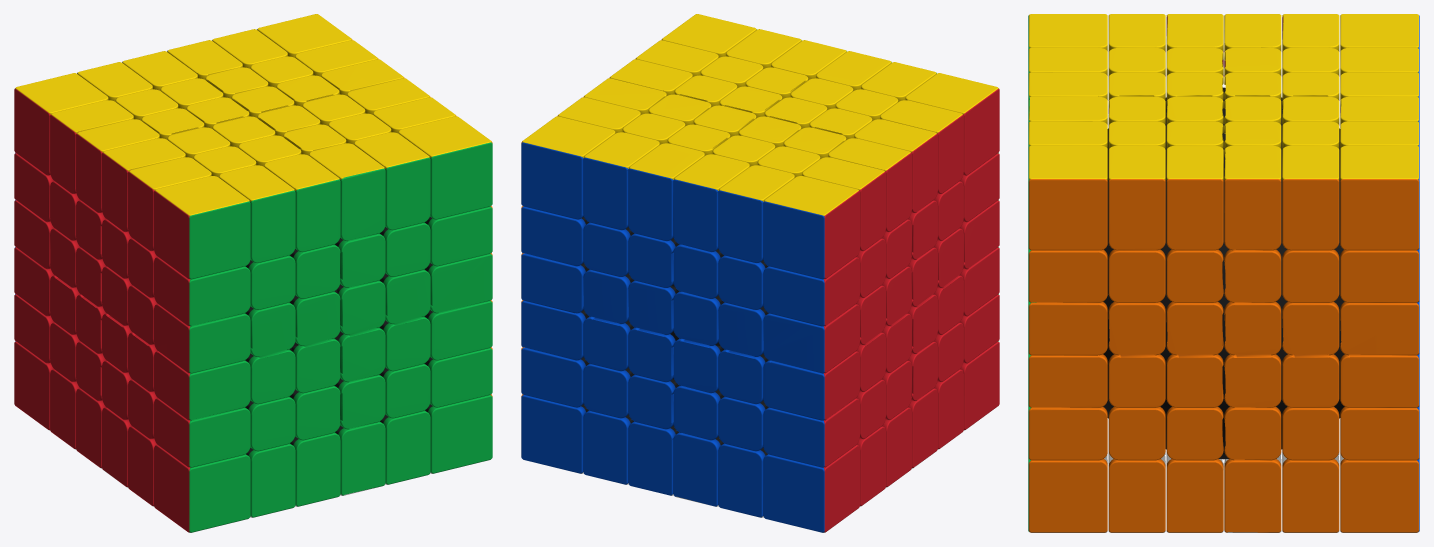
3 views of the same model, side by side, from view 1: azimuth 30°, elevation 25°; view 2: azimuth 150°, elevation 25°; view 3: azimuth 270°, elevation 25° (orthographic). The views are drawn at different scales.
Parts seen in each view (by area): view 1: piece_-2.5,2.5,2.5, piece_-2.5,-2.5,2.5, piece_2.5,2.5,2.5, piece_-2.5,-1.5,2.5, piece_-2.5,0.5,2.5, piece_-2.5,-0.5,2.5, piece_-2.5,1.5,2.5, piece_-0.5,2.5,2.5, piece_-2.5,2.5,-2.5, piece_-1.5,2.5,2.5, piece_1.5,2.5,2.5, piece_0.5,2.5,2.5 (+79 smaller); view 2: piece_-2.5,2.5,-2.5, piece_-2.5,-2.5,-2.5, piece_2.5,2.5,-2.5, piece_-2.5,-0.5,-2.5, piece_-2.5,-1.5,-2.5, piece_-2.5,1.5,-2.5, piece_-2.5,0.5,-2.5, piece_-1.5,2.5,-2.5, piece_-2.5,2.5,2.5, piece_0.5,2.5,-2.5, piece_1.5,2.5,-2.5, piece_-0.5,2.5,-2.5 (+79 smaller); view 3: piece_2.5,2.5,-2.5, piece_2.5,2.5,2.5, piece_2.5,2.5,-1.5, piece_2.5,2.5,1.5, piece_2.5,2.5,0.5, piece_2.5,2.5,-0.5, piece_2.5,-2.5,2.5, piece_2.5,-2.5,-2.5, interior_occlusion, piece_2.5,-1.5,2.5, piece_2.5,0.5,2.5, piece_2.5,-2.5,-0.5 (+55 smaller).
Boxes of the visible parts, left/top/right/bottom form: piece_-2.5,2.5,2.5: left=154, top=176, right=250, bottom=279; piece_-2.5,-2.5,2.5: left=154, top=445, right=250, bottom=532; piece_2.5,2.5,2.5: left=398, top=116, right=492, bottom=219; piece_-2.5,-1.5,2.5: left=154, top=398, right=250, bottom=467; piece_-2.5,0.5,2.5: left=154, top=304, right=250, bottom=373; piece_-2.5,-0.5,2.5: left=154, top=351, right=250, bottom=420; piece_-2.5,1.5,2.5: left=154, top=257, right=250, bottom=326; piece_-0.5,2.5,2.5: left=264, top=154, right=340, bottom=252; piece_-2.5,2.5,-2.5: left=14, top=73, right=108, bottom=175; piece_-1.5,2.5,2.5: left=219, top=165, right=295, bottom=263; piece_1.5,2.5,2.5: left=354, top=132, right=430, bottom=230; piece_0.5,2.5,2.5: left=309, top=143, right=385, bottom=241; piece_-2.5,2.5,-2.5: left=763, top=176, right=859, bottom=279; piece_-2.5,-2.5,-2.5: left=763, top=445, right=859, bottom=532; piece_2.5,2.5,-2.5: left=521, top=116, right=615, bottom=219; piece_-2.5,-0.5,-2.5: left=763, top=351, right=859, bottom=420; piece_-2.5,-1.5,-2.5: left=763, top=398, right=859, bottom=467; piece_-2.5,1.5,-2.5: left=763, top=257, right=859, bottom=326; piece_-2.5,0.5,-2.5: left=763, top=304, right=859, bottom=373; piece_-1.5,2.5,-2.5: left=718, top=165, right=794, bottom=263; piece_-2.5,2.5,2.5: left=905, top=73, right=999, bottom=175; piece_0.5,2.5,-2.5: left=628, top=143, right=704, bottom=241; piece_1.5,2.5,-2.5: left=583, top=132, right=659, bottom=230; piece_-0.5,2.5,-2.5: left=673, top=154, right=749, bottom=252; piece_2.5,2.5,-2.5: left=1340, top=145, right=1419, bottom=250; piece_2.5,2.5,2.5: left=1028, top=145, right=1107, bottom=250; piece_2.5,2.5,-1.5: left=1282, top=145, right=1339, bottom=250; piece_2.5,2.5,1.5: left=1108, top=145, right=1165, bottom=250; piece_2.5,2.5,0.5: left=1166, top=145, right=1223, bottom=250; piece_2.5,2.5,-0.5: left=1224, top=145, right=1281, bottom=250; piece_2.5,-2.5,2.5: left=1028, top=459, right=1107, bottom=532; piece_2.5,-2.5,-2.5: left=1340, top=459, right=1419, bottom=532; interior_occlusion: left=1103, top=87, right=1344, bottom=459; piece_2.5,-1.5,2.5: left=1028, top=406, right=1107, bottom=460; piece_2.5,0.5,2.5: left=1028, top=302, right=1107, bottom=355; piece_2.5,-2.5,-0.5: left=1224, top=459, right=1281, bottom=532.
Size of the model in its own units: 2 by 2 by 2.
